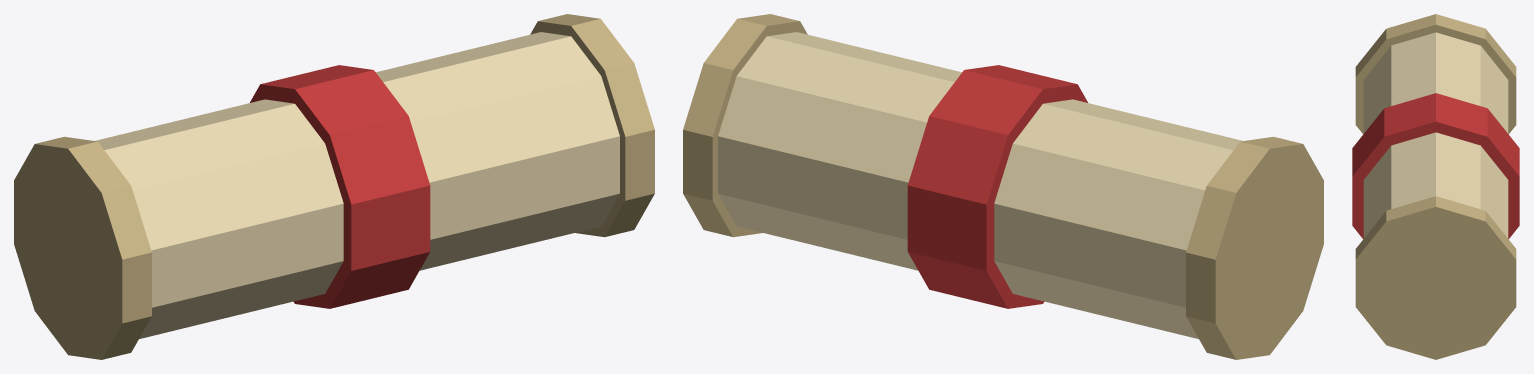
The model's file is drop_scroll.glb.
The picture shows the model from 3 angles, left to right: view 1: azimuth 30°, elevation 25°; view 2: azimuth 150°, elevation 25°; view 3: azimuth 270°, elevation 25°; orthographic projection. The views are drawn at different scales.
Parts seen in each view (by area): view 1: drop_scroll; view 2: drop_scroll; view 3: drop_scroll.
Part boxes in pixels (x1,y1,x2,y2): drop_scroll: (14, 14, 654, 359); drop_scroll: (683, 14, 1323, 359); drop_scroll: (1352, 14, 1519, 359).
Size of the model in its own units: 0.27 by 0.104 by 0.0989.
